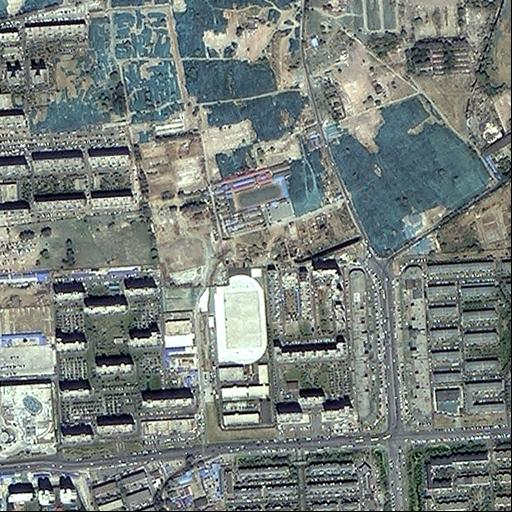school: (210, 264, 273, 433), (225, 162, 294, 211)
